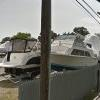Boat: (1, 29, 94, 79)
